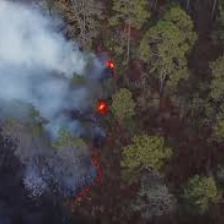incendio: (75, 96, 116, 137), (88, 58, 120, 81)
